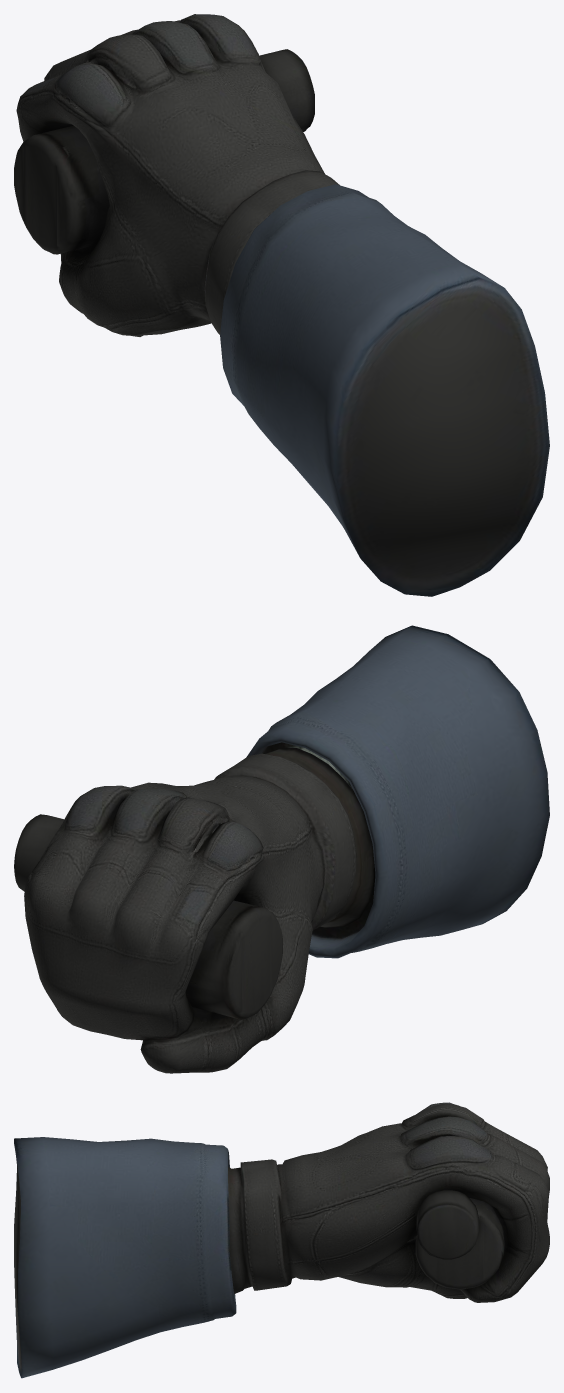
Rendered from rider-gloved-hand.glb.
3 renders of one model, top to bottom at view 1: azimuth 30°, elevation 25°; view 2: azimuth 150°, elevation 25°; view 3: azimuth 270°, elevation 25°, orthographic. The views are drawn at different scales.
Parts seen in each view (by area): view 1: tripo_node_e2acdfee-5881-45fc-a84c-c7b39247e4d3; view 2: tripo_node_e2acdfee-5881-45fc-a84c-c7b39247e4d3; view 3: tripo_node_e2acdfee-5881-45fc-a84c-c7b39247e4d3.
Part boxes in pixels (left/top/right/bottom): tripo_node_e2acdfee-5881-45fc-a84c-c7b39247e4d3: left=14, top=14, right=549, bottom=596; tripo_node_e2acdfee-5881-45fc-a84c-c7b39247e4d3: left=14, top=625, right=549, bottom=1073; tripo_node_e2acdfee-5881-45fc-a84c-c7b39247e4d3: left=14, top=1102, right=549, bottom=1378.
Size of the model in its own units: 0.4004 by 0.5254 by 0.998.
Materials: 1 (1 with a texture image).
